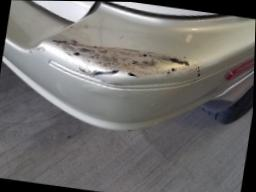Bumper: (25, 3, 207, 127)
